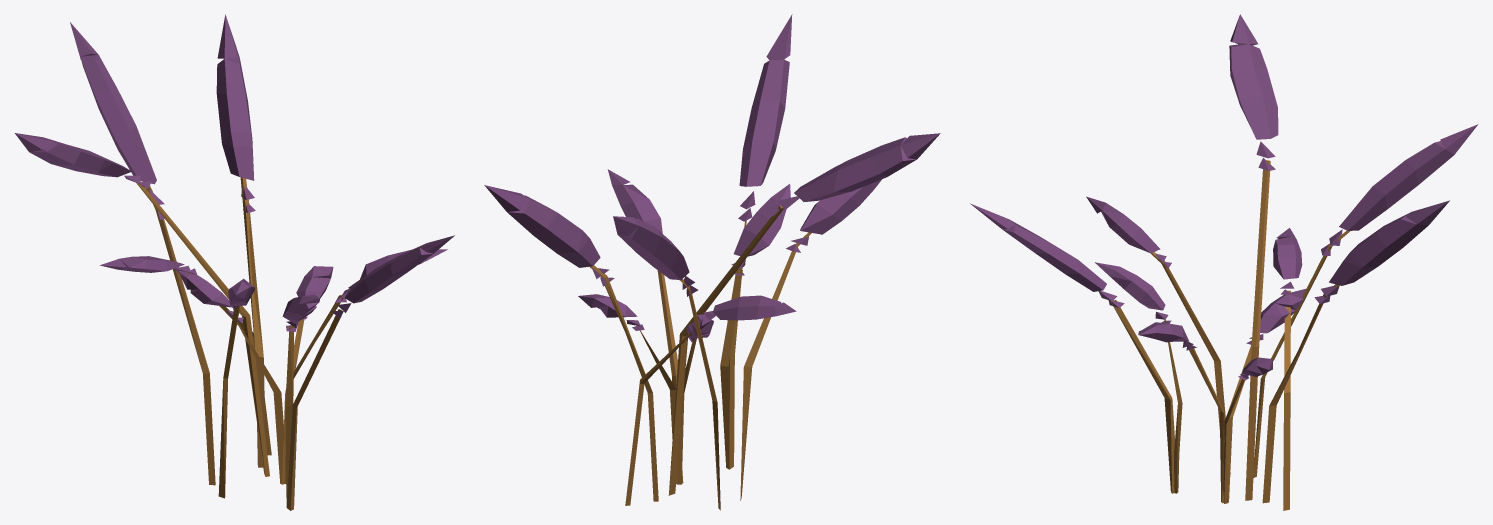
The model's file is SM_Lavender_02.fbx.
3 renders of one model, left to right at view 1: azimuth 30°, elevation 25°; view 2: azimuth 150°, elevation 25°; view 3: azimuth 270°, elevation 25°, orthographic. The views are drawn at different scales.
Visible parts, largest first — view 1: SM_Lavender_02; view 2: SM_Lavender_02; view 3: SM_Lavender_02.
Part boxes in pixels (x1=…): SM_Lavender_02: x1=15, y1=14, x2=454, y2=510; SM_Lavender_02: x1=484, y1=14, x2=940, y2=510; SM_Lavender_02: x1=970, y1=14, x2=1478, y2=510.
Bounding box in the file's own units: 176 × 182 × 226.
